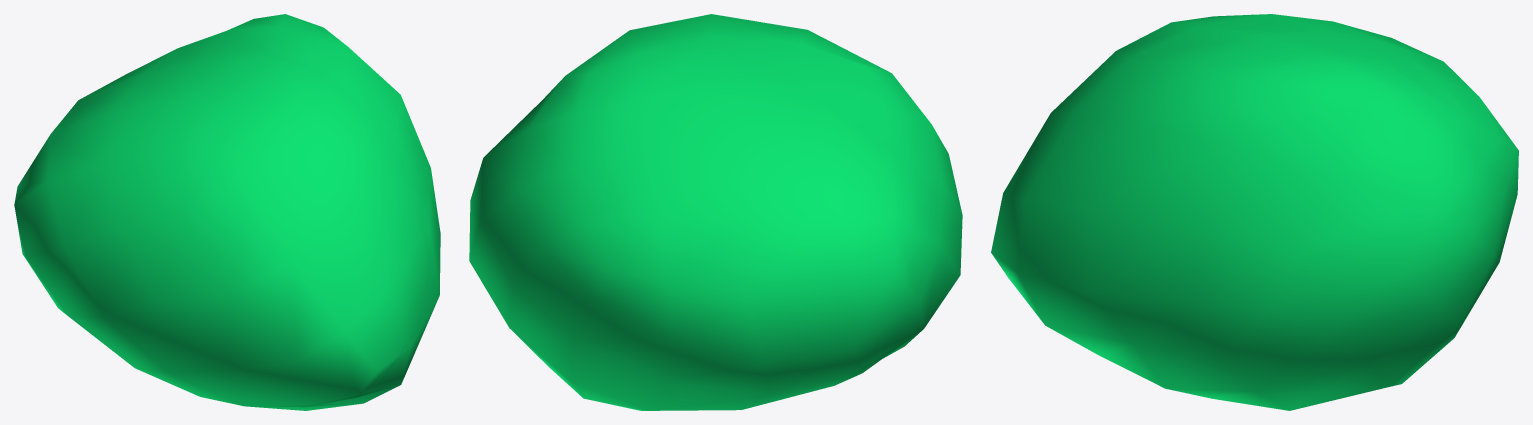
The model's file is pustule.fbx.
The picture shows the model from 3 angles, left to right: view 1: azimuth 30°, elevation 25°; view 2: azimuth 150°, elevation 25°; view 3: azimuth 270°, elevation 25°; orthographic projection. The views are drawn at different scales.
Visible parts, largest first — view 1: pustule_15; view 2: pustule_15; view 3: pustule_15.
Boxes of the visible parts, left/top/right/bottom form: pustule_15: left=14, top=14, right=440, bottom=410; pustule_15: left=469, top=14, right=962, bottom=410; pustule_15: left=991, top=14, right=1518, bottom=410.
Bounding box in the file's own units: 0.4604 × 0.3732 × 0.5129.
